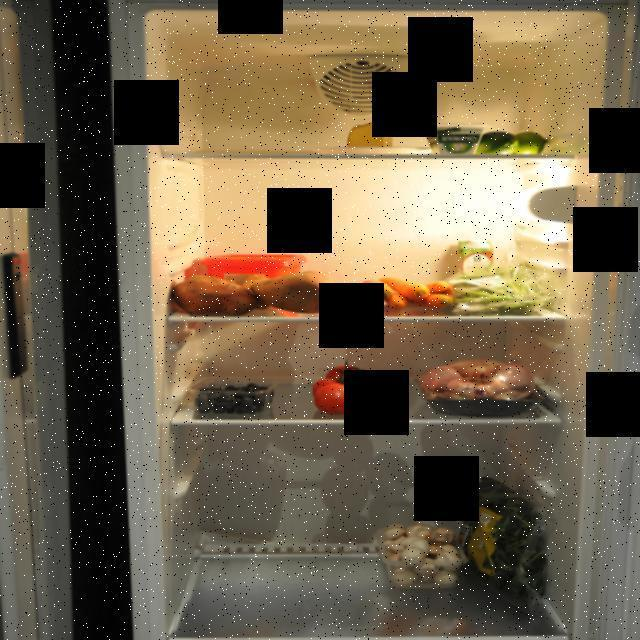blueberries: (195, 383, 281, 413)
butter: (198, 252, 308, 308)
carrot: (332, 276, 454, 314)
cheese: (344, 120, 398, 152)
chicken: (413, 358, 549, 417)
goat_cheese: (418, 125, 486, 154)
green_beans: (452, 261, 556, 311)
heavy_cream: (456, 238, 494, 296)
lime: (470, 130, 552, 154)
mushrooms: (371, 522, 461, 590)
spinach: (455, 474, 553, 616)
sweet_potato: (176, 274, 336, 320)
tomato: (304, 356, 406, 416)
